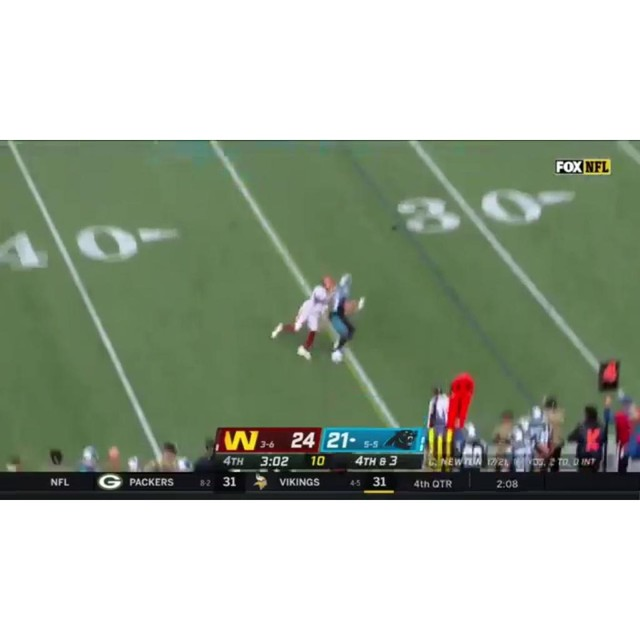american-football-player: (269, 278, 334, 362), (325, 274, 365, 365)
